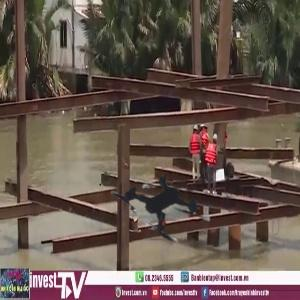drone: (89, 135, 233, 279)
